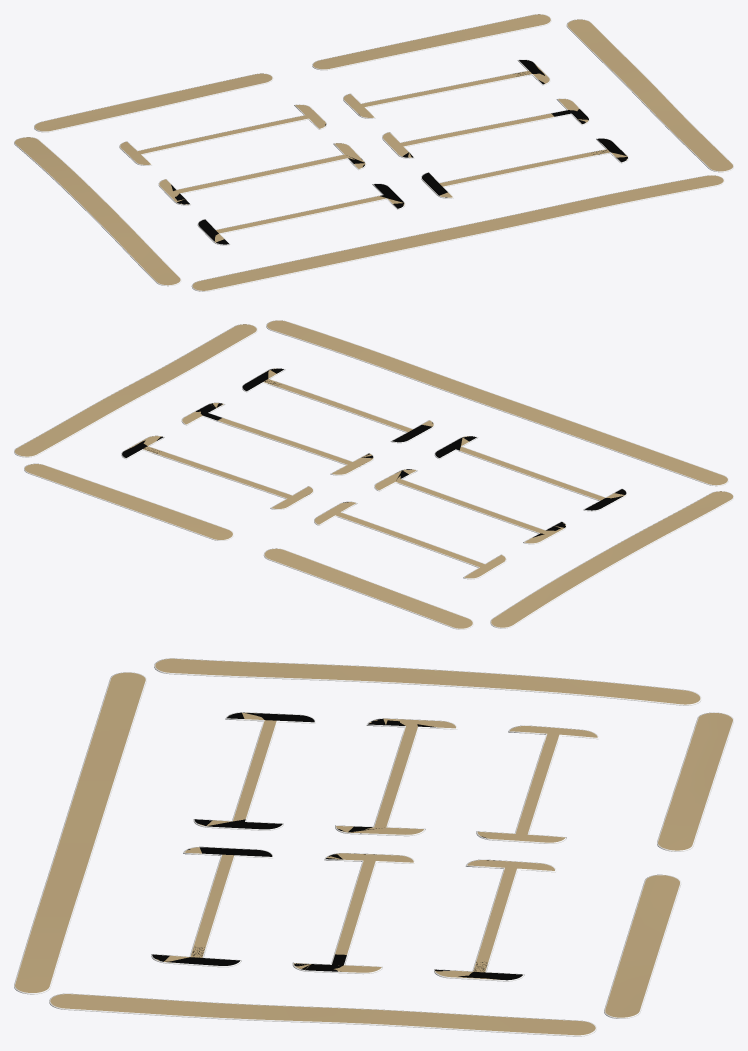
The model's file is sidewalk_racetrack_parking.dae.
The picture shows the model from 3 angles, top to bottom: view 1: azimuth 30°, elevation 25°; view 2: azimuth 150°, elevation 25°; view 3: azimuth 270°, elevation 25°; orthographic projection. The views are drawn at different scales.
Visible parts, largest first — view 1: Colmesh-1, sidewalk_racetrack_parking_a2000; view 2: Colmesh-1, sidewalk_racetrack_parking_a2000; view 3: Colmesh-1, sidewalk_racetrack_parking_a2000.
Part boxes in pixels (x1,y1,x2,y2): Colmesh-1: (14, 14, 733, 291); sidewalk_racetrack_parking_a2000: (171, 60, 627, 244); Colmesh-1: (14, 320, 733, 629); sidewalk_racetrack_parking_a2000: (122, 368, 626, 537); Colmesh-1: (14, 658, 733, 1036); sidewalk_racetrack_parking_a2000: (152, 712, 522, 980).
Size of the model in its own units: 133 by 101 by 4.55.
